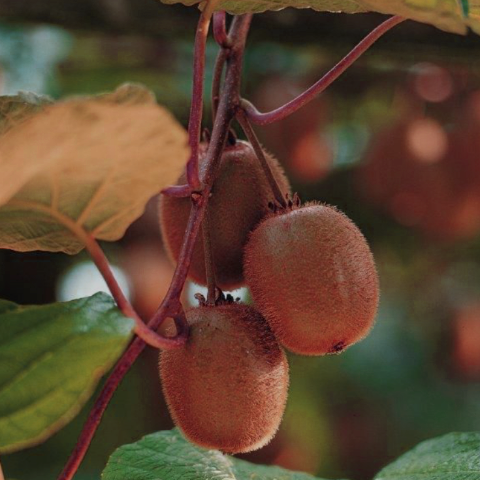kiwi: (148, 287, 310, 456), (160, 133, 304, 303), (239, 198, 390, 357)
